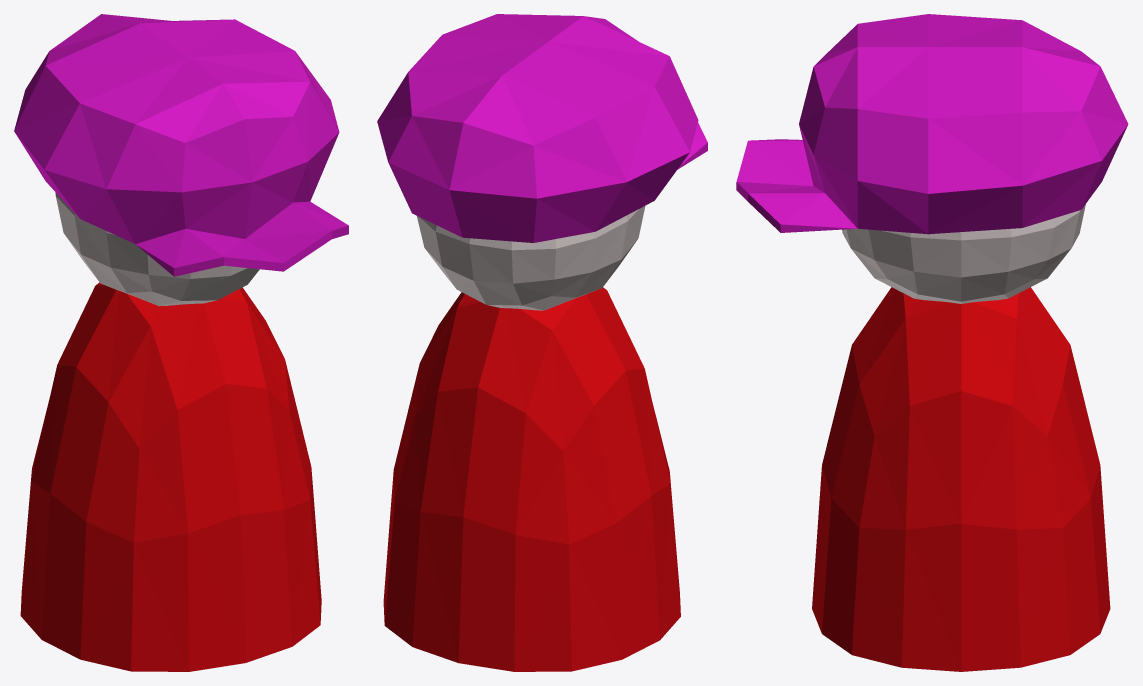
The model's file is PlayerCharacter.fbx.
3 views of the same model, side by side, from view 1: azimuth 30°, elevation 25°; view 2: azimuth 150°, elevation 25°; view 3: azimuth 270°, elevation 25° (orthographic).
Visible parts, largest first — view 1: Cube.001; view 2: Cube.001; view 3: Cube.001.
Boxes of the visible parts, <box> form: Cube.001: <box>14,14,348,671</box>; Cube.001: <box>377,14,707,671</box>; Cube.001: <box>736,14,1128,671</box>.
Bounding box in the file's own units: 389 × 730 × 462.
